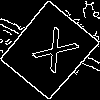X: (24, 25, 80, 82)
